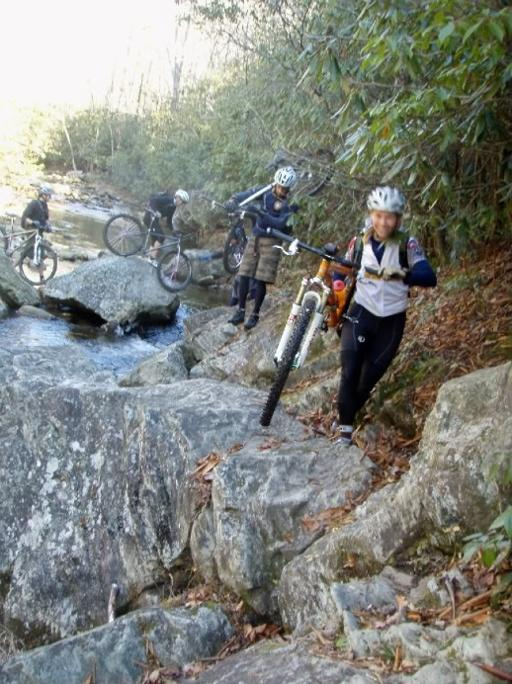non-vehicle: (257, 222, 397, 429), (199, 188, 299, 276), (101, 206, 192, 293), (0, 209, 58, 287)
